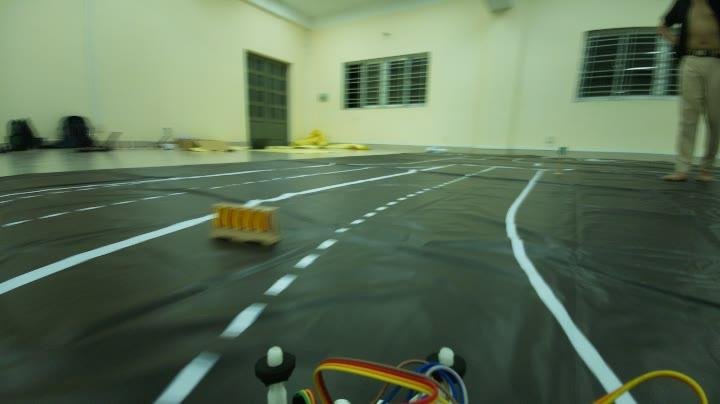roadblock: (203, 193, 279, 250)
